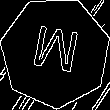M_S: (28, 24, 83, 82)
